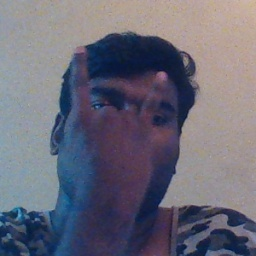V: (57, 42, 171, 198)
